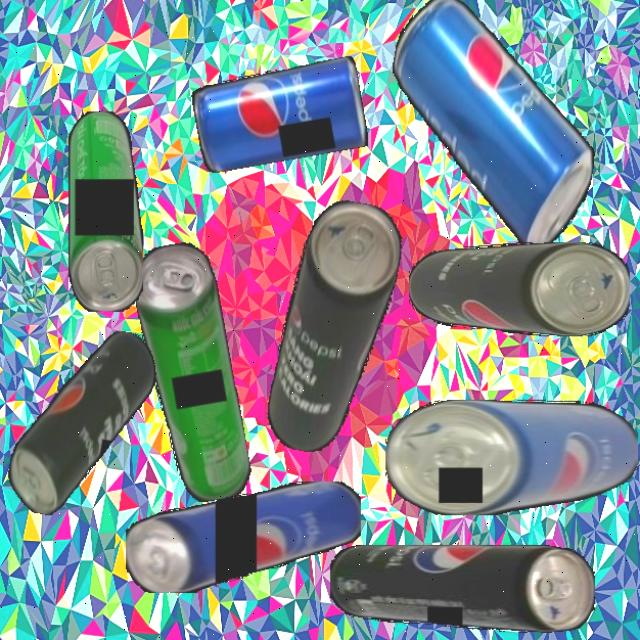debris: (366, 0, 618, 258), (262, 194, 408, 461), (128, 238, 255, 507), (3, 317, 162, 528), (385, 399, 638, 515), (126, 480, 361, 593), (329, 545, 595, 633), (190, 56, 369, 174), (408, 242, 630, 336), (68, 110, 143, 312)
